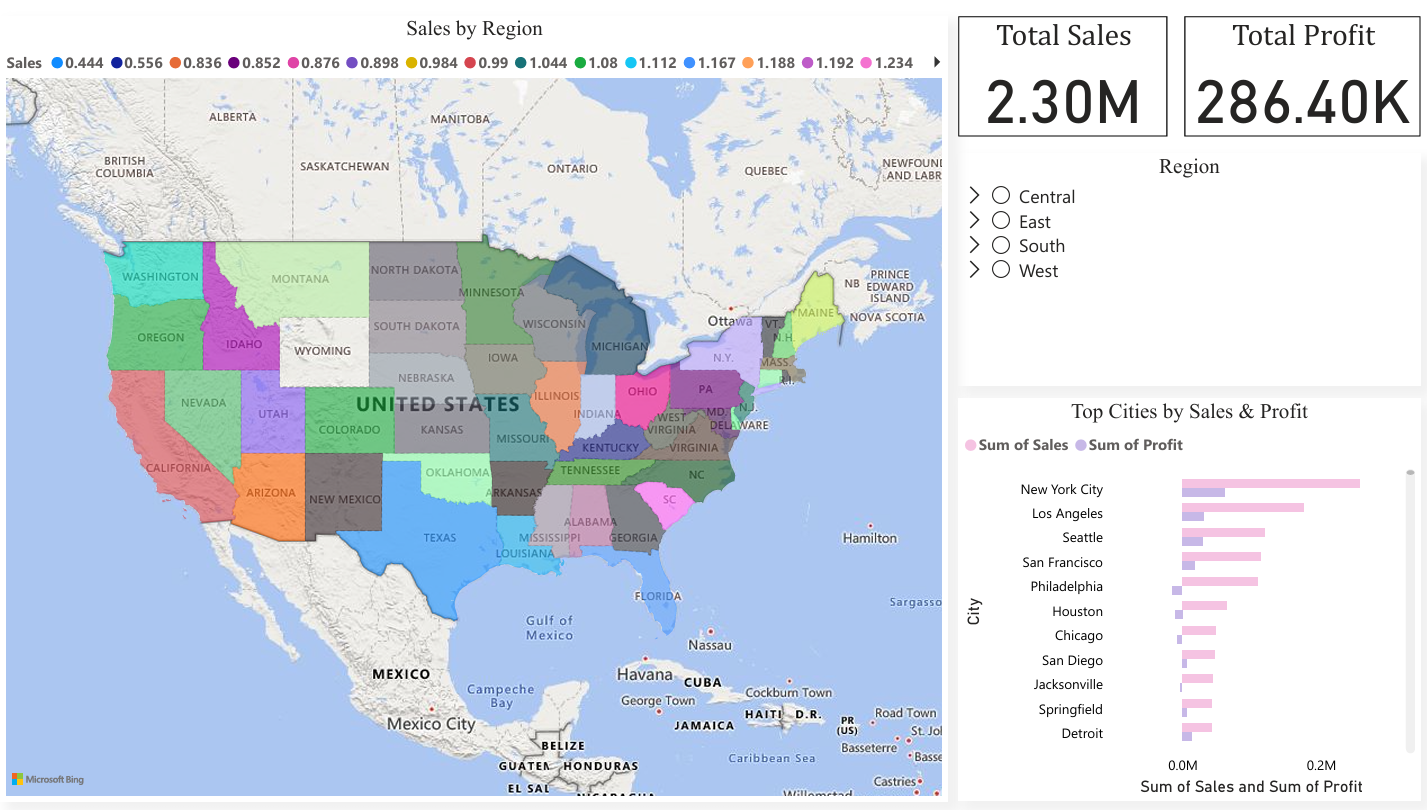

What the dashboard file says about the page in this screenshot:
{"tool":"powerbi","page":{"name":"Geographic Insights","canvas":[1280,720],"ordinal":2},"visuals":[{"type":"listSlicer","fields":{"Values":["superstore_clean.Region","superstore_clean.Category","superstore_clean.Order Date.Variation.Date Hierarchy.Year","superstore_clean.Order Date.Variation.Date Hierarchy.Quarter","superstore_clean.Order Date.Variation.Date Hierarchy.Month","superstore_clean.Order Date.Variation.Date Hierarchy.Day"]},"box":[881,0,398.7,210],"z":0},{"type":"filledMap","title":"Sales by Region","fields":{"Category":["superstore_clean.State"],"Series":["superstore_clean.Sales"]},"box":[0,0,881,720.8],"z":1},{"type":"card","fields":{"Values":["Sum(superstore_clean.Profit)"]},"box":[1099.3,210.3,179.8,128.4],"z":2},{"type":"card","fields":{"Values":["Sum(superstore_clean.Sales)"]},"box":[880.4,210.3,217.7,128.4],"z":3},{"type":"clusteredBarChart","title":"Top Cities by Sales & Profit","fields":{"Category":["superstore_clean.City"],"Y":["Sum(superstore_clean.Sales)","Sum(superstore_clean.Profit)"]},"box":[881,338.2,398.7,382.7],"z":4}]}

Visuals, with their boxes in screenshot pixels (x1, y1, x2, y2), scaled from the page's 1280x720 canvas onto the 1427x810 screenshot:
listSlicer - superstore_clean.Region x superstore_clean.Category: BBox(982, 0, 1426, 236)
"Sales by Region" filledMap: BBox(0, 0, 982, 809)
card - Sum(superstore_clean.Profit): BBox(1226, 237, 1426, 381)
card - Sum(superstore_clean.Sales): BBox(982, 237, 1224, 381)
"Top Cities by Sales & Profit" clusteredBarChart: BBox(982, 380, 1426, 809)
